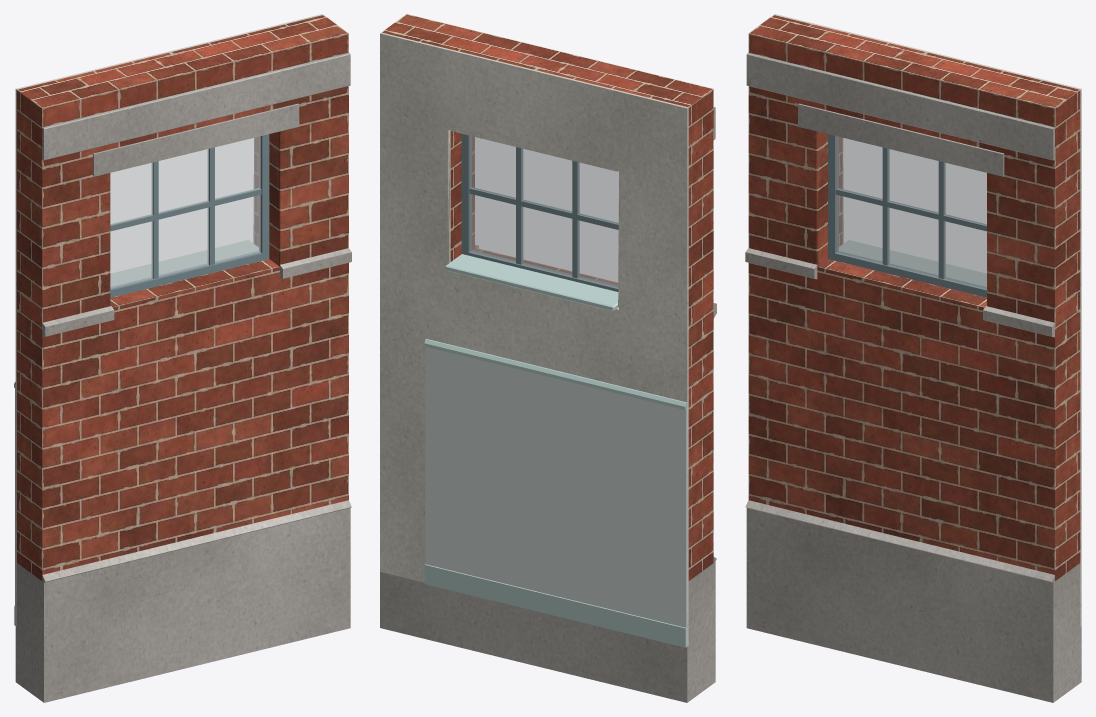
Rendered from w_end_r.glb.
The picture shows the model from 3 angles, left to right: view 1: azimuth 30°, elevation 25°; view 2: azimuth 150°, elevation 25°; view 3: azimuth 330°, elevation 25°; orthographic projection.
Visible parts, largest first — view 1: w_end_r_brick, w_end_r_concrete, w_end_r_glass_f, w_end_r_frame, w_end_r_tile_c, w_end_r_plaster; view 2: w_end_r_plaster, w_end_r_tile_w, w_end_r_brick, w_end_r_concrete, w_end_r_glass_f, w_end_r_tile_c, w_end_r_frame; view 3: w_end_r_brick, w_end_r_concrete, w_end_r_glass_f, w_end_r_frame, w_end_r_tile_c, w_end_r_plaster.
Boxes of the visible parts, left/top/right/bottom form: w_end_r_brick: left=17, top=15, right=348, bottom=580; w_end_r_concrete: left=15, top=52, right=351, bottom=702; w_end_r_glass_f: left=110, top=136, right=260, bottom=288; w_end_r_frame: left=110, top=134, right=269, bottom=297; w_end_r_tile_c: left=14, top=240, right=258, bottom=625; w_end_r_plaster: left=15, top=14, right=322, bottom=626; w_end_r_plaster: left=380, top=32, right=688, bottom=646; w_end_r_tile_w: left=425, top=347, right=687, bottom=646; w_end_r_brick: left=381, top=14, right=713, bottom=580; w_end_r_concrete: left=380, top=107, right=716, bottom=702; w_end_r_glass_f: left=470, top=136, right=618, bottom=287; w_end_r_tile_c: left=424, top=254, right=687, bottom=647; w_end_r_frame: left=461, top=134, right=618, bottom=291; w_end_r_brick: left=748, top=15, right=1080, bottom=580; w_end_r_concrete: left=745, top=52, right=1081, bottom=702; w_end_r_glass_f: left=836, top=136, right=986, bottom=288; w_end_r_frame: left=828, top=134, right=986, bottom=297; w_end_r_tile_c: left=839, top=240, right=986, bottom=286; w_end_r_plaster: left=774, top=14, right=1081, bottom=626.
Bounding box in the file's own units: 2 × 3.7 × 0.385.
Materials: 7 (3 with a texture image).
